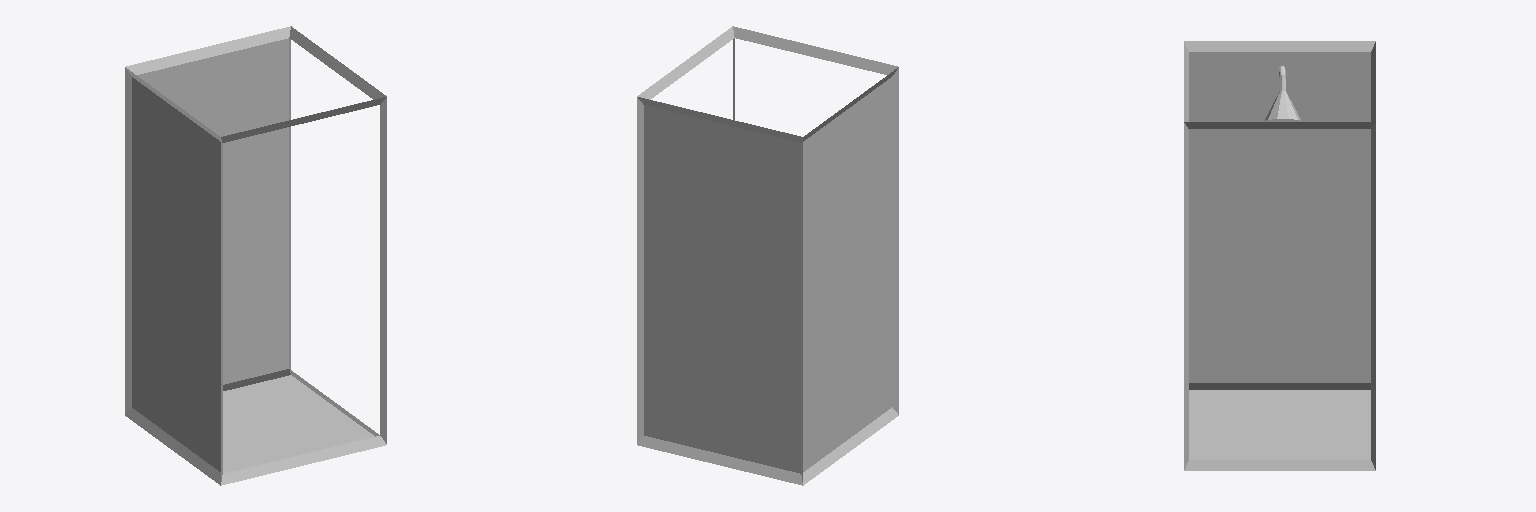
The model's file is shower.obj.
3 renders of one model, left to right at view 1: azimuth 30°, elevation 25°; view 2: azimuth 150°, elevation 25°; view 3: azimuth 270°, elevation 25°, orthographic.
Visible parts, largest first — view 1: Cube_Cube.001; view 2: Cube_Cube.001; view 3: Cube_Cube.001.
Boxes of the visible parts, <box> form: Cube_Cube.001: <box>125,26,386,485</box>; Cube_Cube.001: <box>637,26,898,485</box>; Cube_Cube.001: <box>1184,41,1375,470</box>.
Size of the model in its own units: 2 by 4.01 by 2.